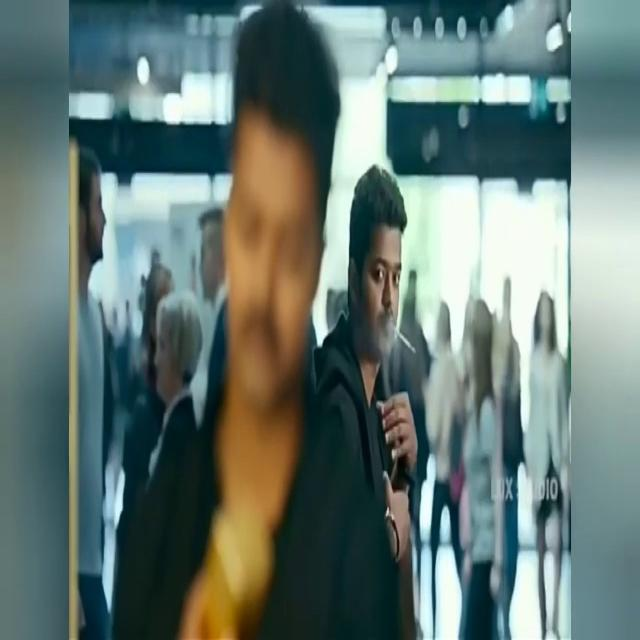smoking: (376, 326, 418, 342)
